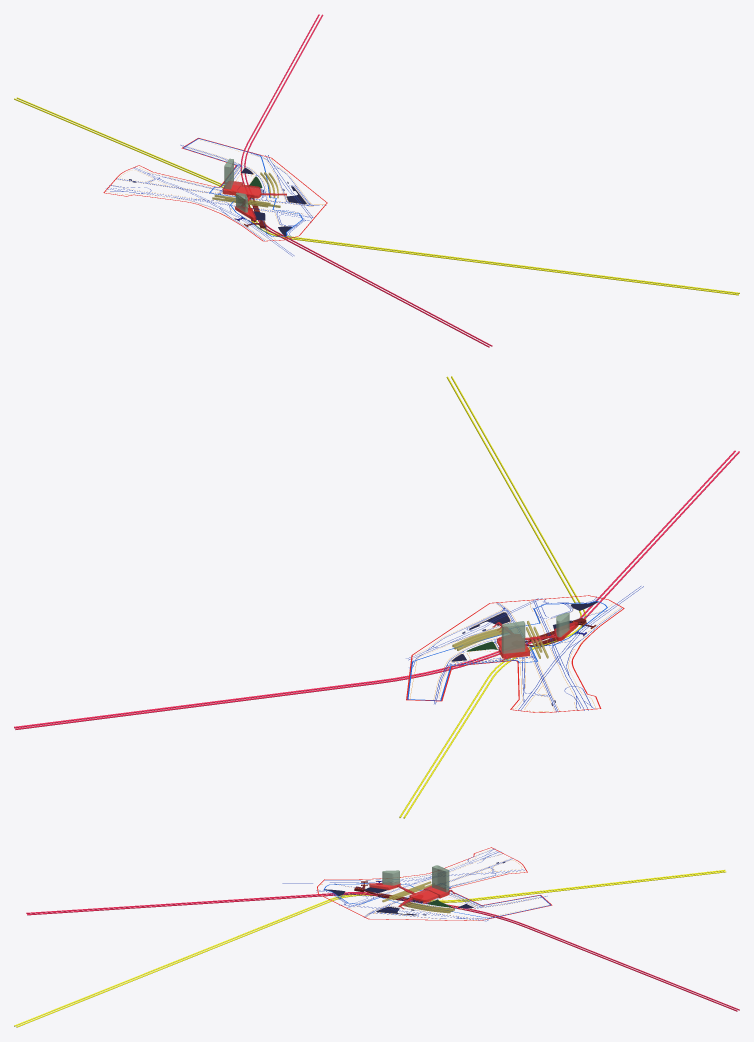
Rendered from MODEL_Layers.FBX.
The picture shows the model from 3 angles, top to bottom: view 1: azimuth 30°, elevation 25°; view 2: azimuth 150°, elevation 25°; view 3: azimuth 270°, elevation 25°; orthographic projection. The views are drawn at different scales.
Parts seen in each view (by area): view 1: L_Subway_Line_LyubDmit, L_Subway_Line_SerpTim, L_Traffic_Cars, L_PR_Zone_1_TPU, l_PPT; view 2: L_Subway_Line_SerpTim, L_Subway_Line_LyubDmit, L_Traffic_Cars, L_PR_Zone_2_Complex, l_PPT, L_Pedestrian_Ground; view 3: L_Subway_Line_LyubDmit, L_Subway_Line_SerpTim, L_Traffic_Cars, L_PR_Zone_1_TPU, l_PPT, L_PR_Zone_2_Complex, l_GZRO, L_Parking_Land.
Boxes of the visible parts, <box> form: L_Subway_Line_LyubDmit: <box>14,97,739,295</box>; L_Subway_Line_SerpTim: <box>240,14,492,347</box>; L_Traffic_Cars: <box>106,145,326,256</box>; L_PR_Zone_1_TPU: <box>222,181,286,220</box>; l_PPT: <box>103,138,327,241</box>; L_Subway_Line_SerpTim: <box>14,450,739,729</box>; L_Subway_Line_LyubDmit: <box>399,376,586,818</box>; L_Traffic_Cars: <box>406,586,643,712</box>; L_PR_Zone_2_Complex: <box>501,612,569,653</box>; l_PPT: <box>406,595,624,712</box>; L_Pedestrian_Ground: <box>410,601,620,711</box>; L_Subway_Line_LyubDmit: <box>14,870,726,1027</box>; L_Subway_Line_SerpTim: <box>26,892,739,1011</box>; L_Traffic_Cars: <box>282,849,547,921</box>; L_PR_Zone_1_TPU: <box>369,883,454,909</box>; l_PPT: <box>317,847,552,920</box>; L_PR_Zone_2_Complex: <box>382,865,449,892</box>; l_GZRO: <box>323,883,550,918</box>; L_Parking_Land: <box>324,887,473,915</box>.
Size of the model in its own units: 2268 by 190 by 4008.
